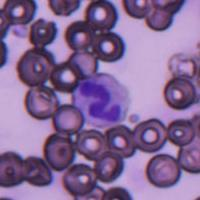N: (72, 72, 128, 128)
